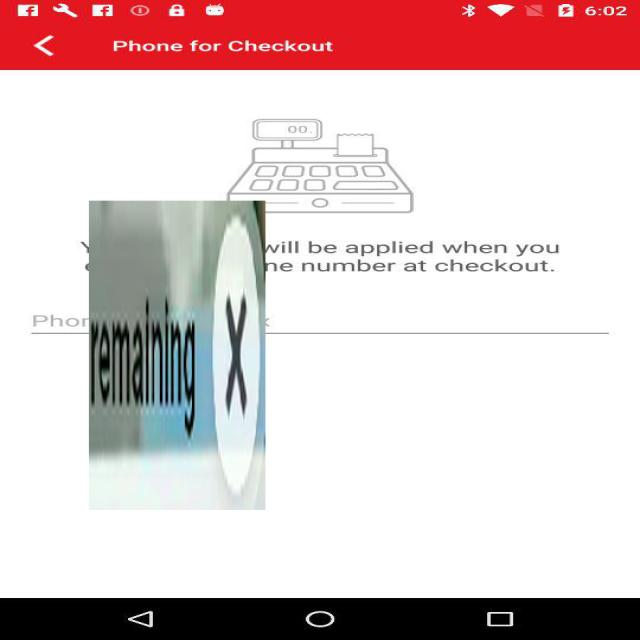misdirection: (89, 201, 265, 510)
